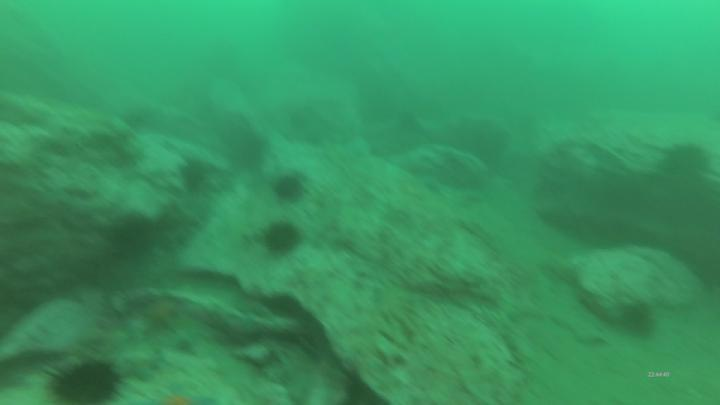echinus: (43, 352, 124, 405), (664, 140, 709, 184), (113, 214, 155, 257), (259, 218, 303, 258), (620, 298, 657, 340), (179, 160, 214, 198), (273, 172, 306, 205)
starfish: (142, 290, 185, 337), (143, 385, 230, 405)
